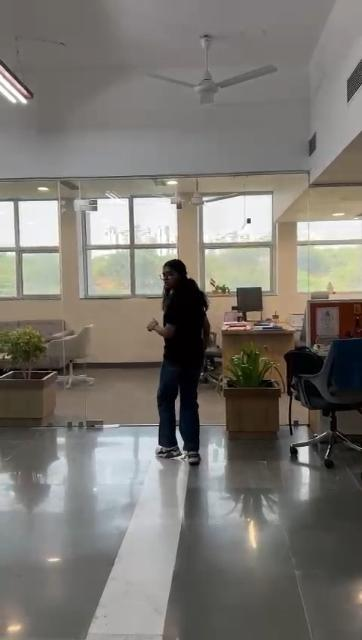floor: (0, 361, 361, 640)
moving-obj: (125, 227, 235, 483)
object: (287, 334, 362, 462), (231, 340, 290, 446), (0, 328, 60, 418), (53, 320, 97, 386), (2, 320, 68, 362), (232, 280, 268, 330)
wall: (88, 298, 150, 359), (275, 184, 297, 326), (59, 206, 81, 330), (176, 195, 203, 267)
